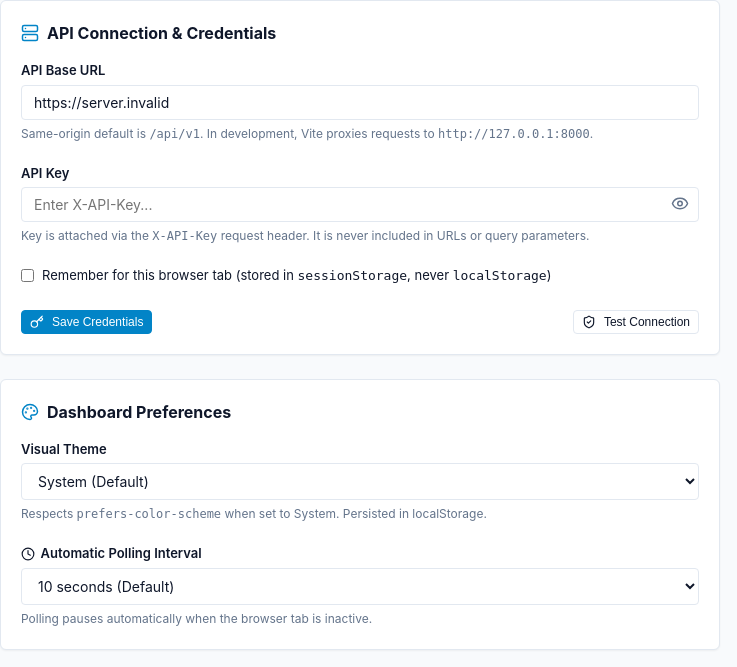
Test: Settings Page › toggles API key visibility securely
In the password field named "API Key": x=360, y=204 [21, 187, 699, 222], type "my-secret-key"
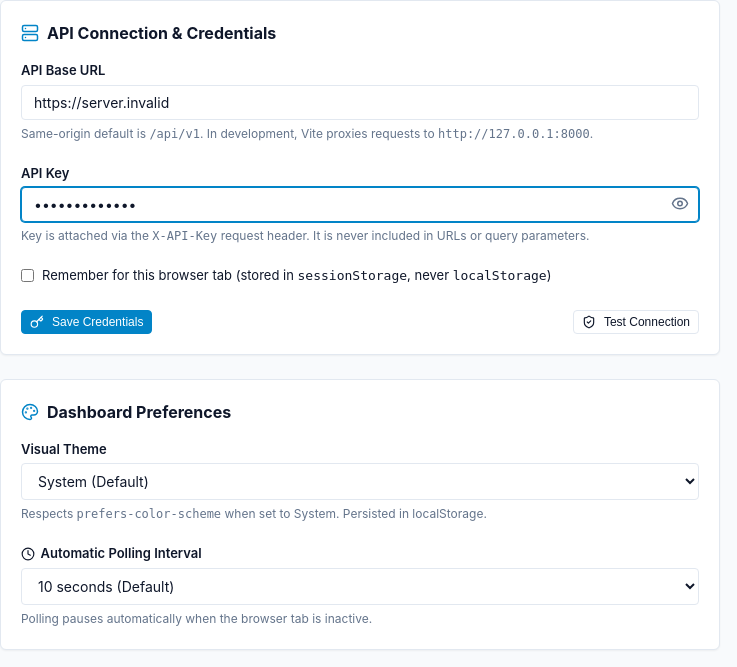
Note: Toggle reveal button
Click the button named "Show API Key": x=680, y=204 [671, 194, 689, 215]
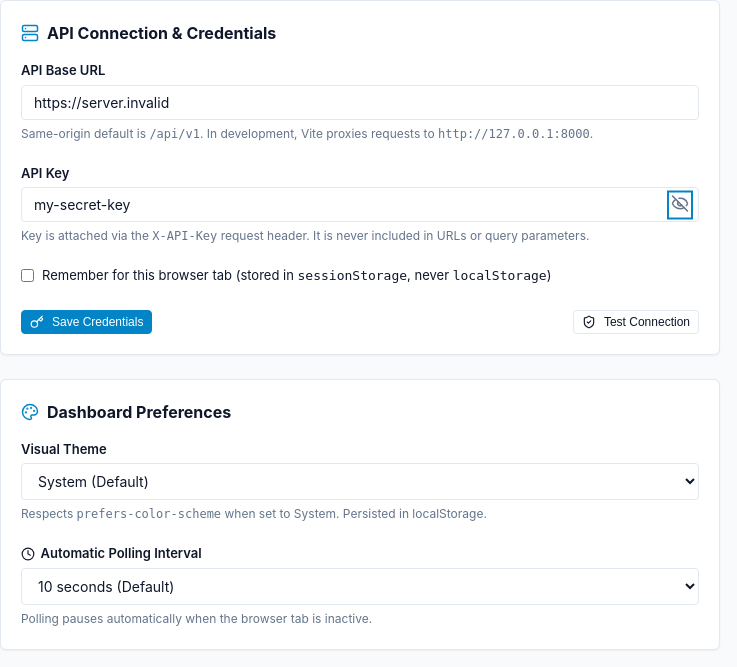
Expected: the field named "API Key" shows its text, [21, 187, 699, 222]
Note: Toggle hide button
Click the button named "Hide API Key": x=680, y=204 [671, 194, 689, 215]
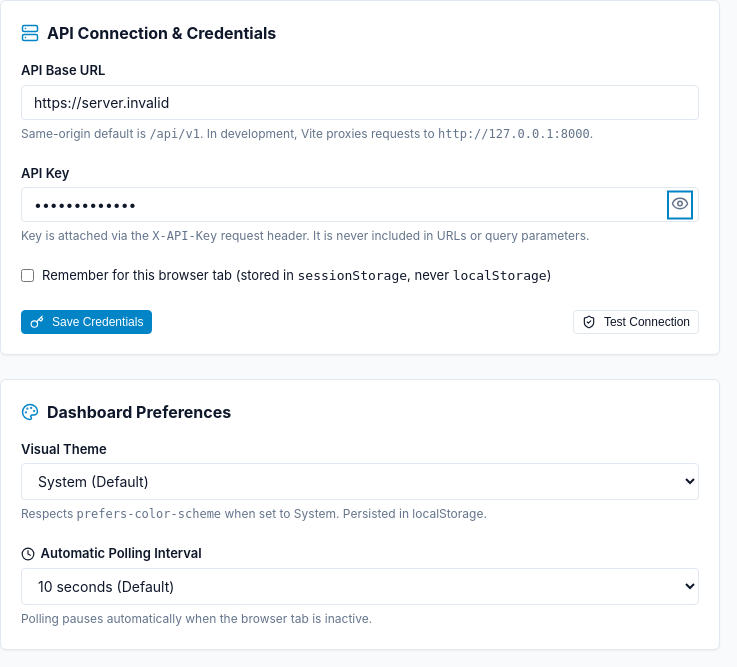
Expected: the password field named "API Key" hides its text, [21, 187, 699, 222]
